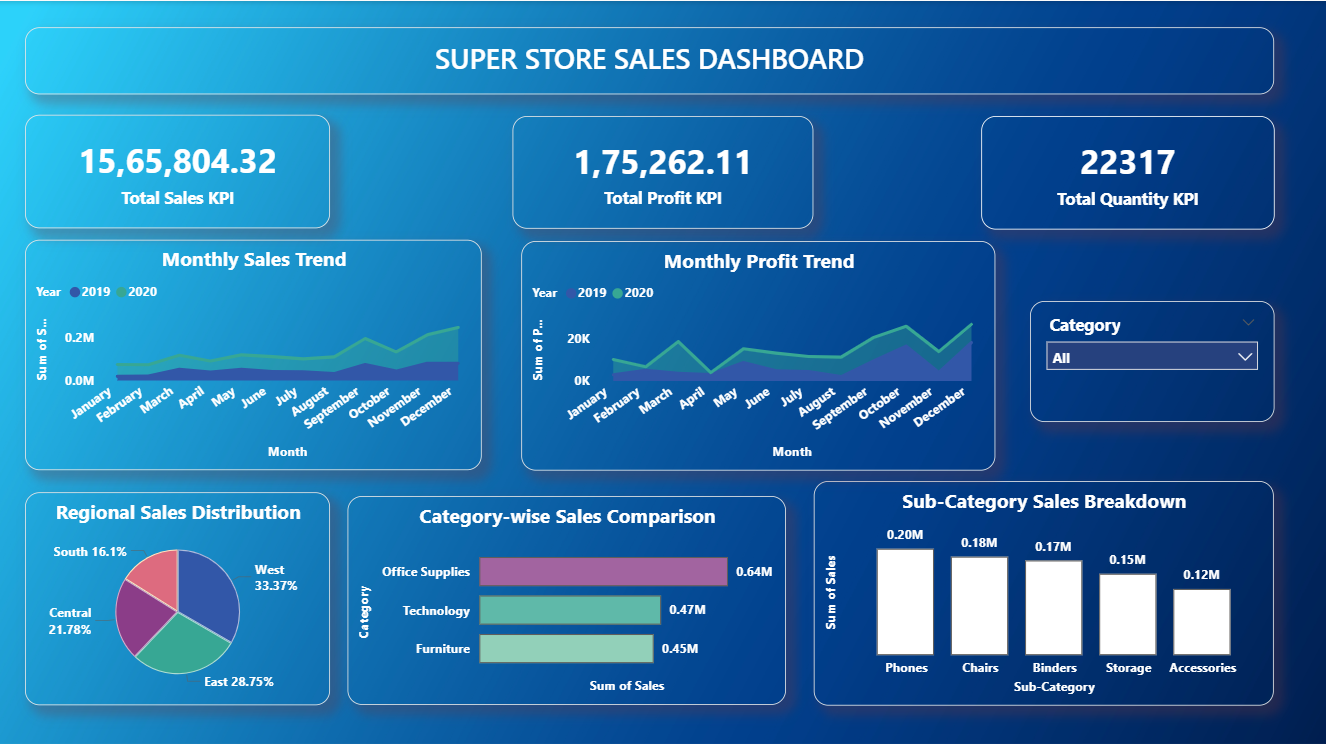

This screenshot's page, from the dashboard's own definition file:
{"tool":"powerbi","page":{"name":"Page 1","canvas":[1280,720],"ordinal":0},"visuals":[{"type":"barChart","title":"Category-wise Sales Comparison","fields":{"Y":["Sum(SuperStore_Sales_Dataset.Sales)"],"Category":["SuperStore_Sales_Dataset.Category"]},"box":[335.9,478.1,423.4,201.6],"z":0},{"type":"columnChart","title":"Sub-Category Sales Breakdown","fields":{"Category":["SuperStore_Sales_Dataset.Sub-Category"],"Y":["Sum(SuperStore_Sales_Dataset.Sales)"]},"box":[785.9,463.4,443.7,216.9],"z":1000},{"type":"slicer","fields":{"Values":["SuperStore_Sales_Dataset.Category"]},"box":[993.8,289.1,235.9,117.2],"z":2000},{"type":"card","fields":{"Values":["Sum(SuperStore_Sales_Dataset.Sales)"]},"box":[23.9,109.9,294.4,109.9],"z":3000},{"type":"card","fields":{"Values":["Sum(SuperStore_Sales_Dataset.Profit)"]},"box":[494.4,111.3,290.1,108.5],"z":4000},{"type":"card","fields":{"Values":["Sum(SuperStore_Sales_Dataset.Quantity)"]},"box":[946.9,110.9,282.8,109.4],"z":5000},{"type":"pieChart","title":"Regional Sales Distribution","fields":{"Category":["SuperStore_Sales_Dataset.Region"],"Y":["Sum(SuperStore_Sales_Dataset.Sales)"]},"box":[23.9,474.6,294.4,205.6],"z":6000},{"type":"stackedAreaChart","title":"Monthly Sales Trend","fields":{"Y":["Sum(SuperStore_Sales_Dataset.Sales)"],"Series":["SuperStore_Sales_Dataset.Order Date.Variation.Date Hierarchy.Year"],"Category":["SuperStore_Sales_Dataset.Order Date.Variation.Date Hierarchy.Month","SuperStore_Sales_Dataset.Order Date.Variation.Date Hierarchy.Day"]},"box":[23.9,231,440.8,222.5],"z":7000},{"type":"stackedAreaChart","title":"Monthly Profit Trend","fields":{"Series":["SuperStore_Sales_Dataset.Order Date.Variation.Date Hierarchy.Year"],"Category":["SuperStore_Sales_Dataset.Order Date.Variation.Date Hierarchy.Month","SuperStore_Sales_Dataset.Order Date.Variation.Date Hierarchy.Day"],"Y":["Sum(SuperStore_Sales_Dataset.Profit)"]},"box":[503.1,231.2,457.8,221.9],"z":8000},{"type":"textbox","box":[23.9,25.4,1205.6,64.8],"z":9000}]}

Visuals, with their boxes in screenshot pixels (x1, y1, x2, y2), scaled from the page's 1280x720 canvas onto the 1326x744 screenshot:
"Category-wise Sales Comparison" barChart: BBox(348, 494, 787, 702)
"Sub-Category Sales Breakdown" columnChart: BBox(814, 479, 1274, 703)
slicer - SuperStore_Sales_Dataset.Category: BBox(1030, 299, 1274, 420)
card - Sum(SuperStore_Sales_Dataset.Sales): BBox(25, 114, 330, 227)
card - Sum(SuperStore_Sales_Dataset.Profit): BBox(512, 115, 813, 227)
card - Sum(SuperStore_Sales_Dataset.Quantity): BBox(981, 115, 1274, 228)
"Regional Sales Distribution" pieChart: BBox(25, 490, 330, 703)
"Monthly Sales Trend" stackedAreaChart: BBox(25, 239, 481, 469)
"Monthly Profit Trend" stackedAreaChart: BBox(521, 239, 995, 468)
textbox: BBox(25, 26, 1274, 93)
